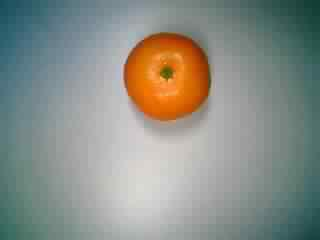orange: (114, 26, 213, 123)
